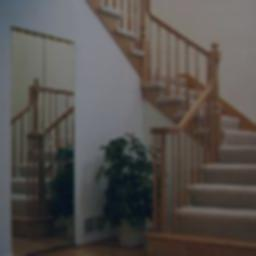Escaleras: (146, 5, 255, 253)
Matera: (101, 130, 153, 246)
